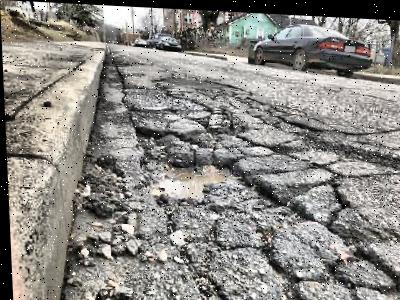pothole: (131, 122, 312, 225)
